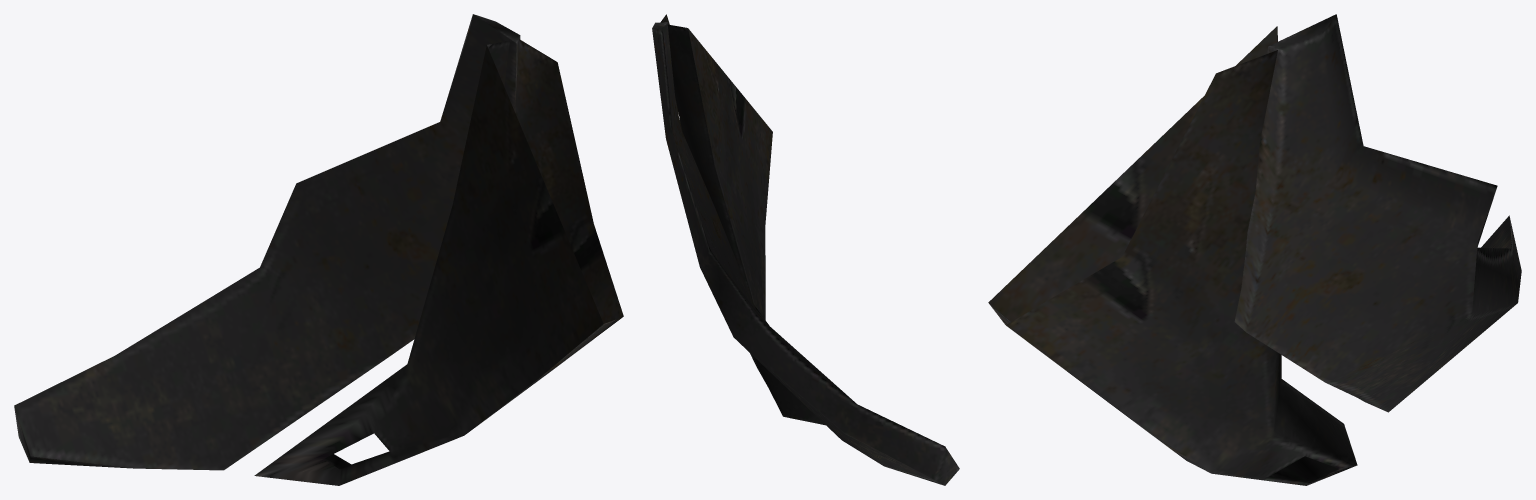
File: armor_chest_low_right.dae
3 renders of one model, left to right at view 1: azimuth 30°, elevation 25°; view 2: azimuth 150°, elevation 25°; view 3: azimuth 270°, elevation 25°, orthographic. The views are drawn at different scales.
Parts seen in each view (by area): view 1: armor_chest_low_right; view 2: armor_chest_low_right; view 3: armor_chest_low_right.
Part boxes in pixels (bbox=[...]): armor_chest_low_right: bbox=[14, 14, 623, 485]; armor_chest_low_right: bbox=[652, 14, 959, 485]; armor_chest_low_right: bbox=[988, 14, 1521, 485].
Bounding box in the file's own units: 0.4258 × 0.337 × 0.3891.
1 material, 1 textured.
